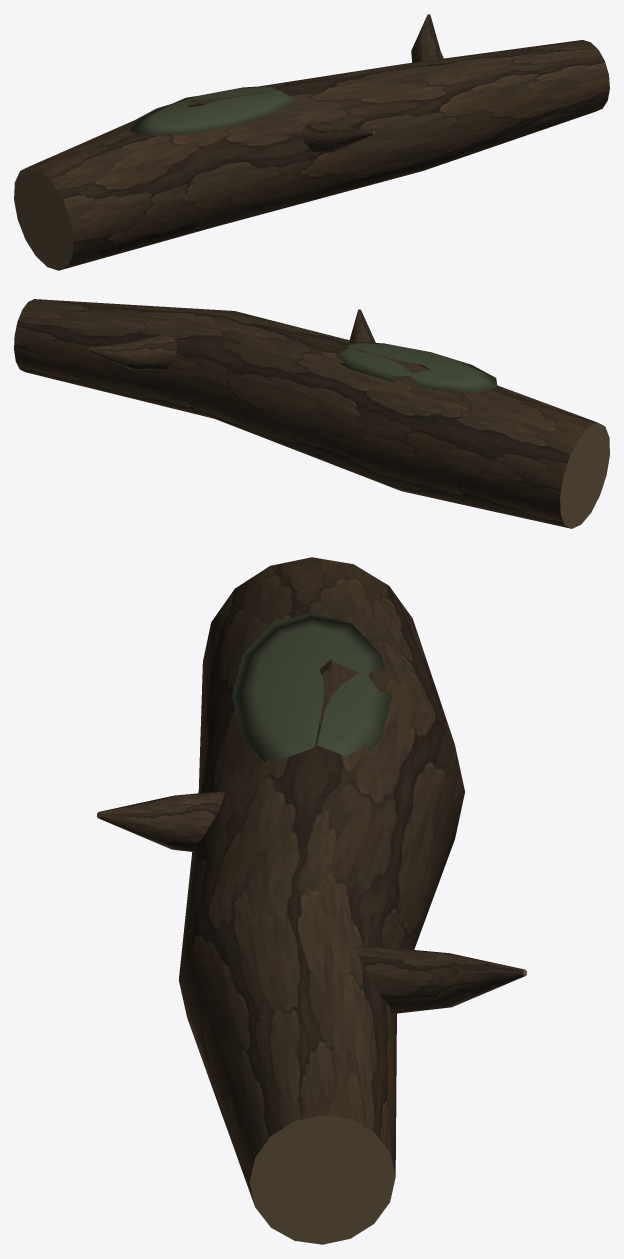
3 views of the same model, one above another, from view 1: azimuth 30°, elevation 25°; view 2: azimuth 150°, elevation 25°; view 3: azimuth 270°, elevation 25° (orthographic). The views are drawn at different scales.
Visible parts, largest first — view 1: Waterworn trunk, Low moss patch, Snapped branch, Snapped branch.001; view 2: Waterworn trunk, Low moss patch, Snapped branch.001, Snapped branch; view 3: Waterworn trunk, Low moss patch, Snapped branch.001, Snapped branch.
Part boxes in pixels (<box>): Waterworn trunk: <box>14,40,609,270</box>; Low moss patch: <box>130,86,295,136</box>; Snapped branch: <box>302,121,374,152</box>; Snapped branch.001: <box>411,14,443,62</box>; Waterworn trunk: <box>14,299,609,528</box>; Low moss patch: <box>336,341,497,392</box>; Snapped branch.001: <box>88,333,177,369</box>; Snapped branch: <box>349,309,375,342</box>; Waterworn trunk: <box>179,557,464,1244</box>; Low moss patch: <box>232,612,391,761</box>; Snapped branch.001: <box>354,946,526,1013</box>; Snapped branch: <box>97,791,224,852</box>.
Bounding box in the file's own units: 9.63 × 2.04 × 3.23.
Materials: 3 (1 with a texture image).
